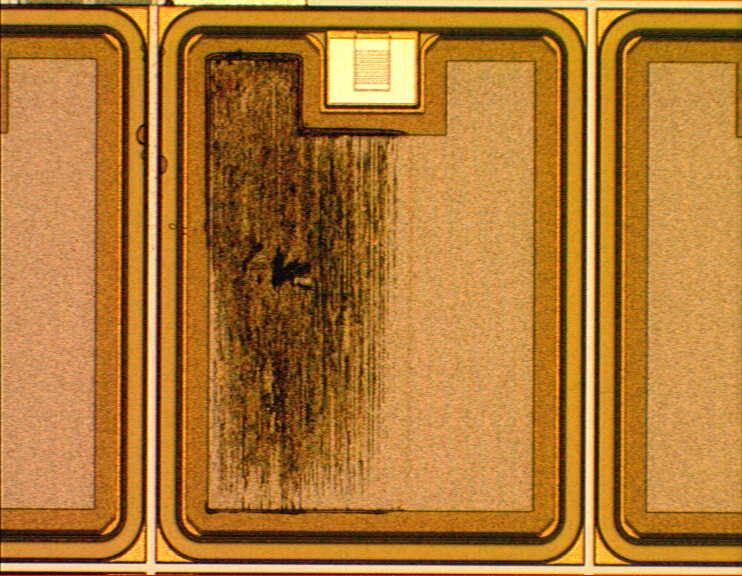SEZ BURNT: (203, 51, 415, 520)
